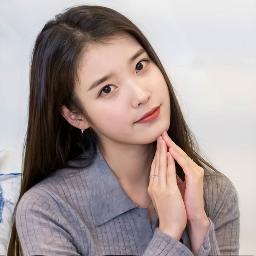face: (74, 44, 170, 140)
